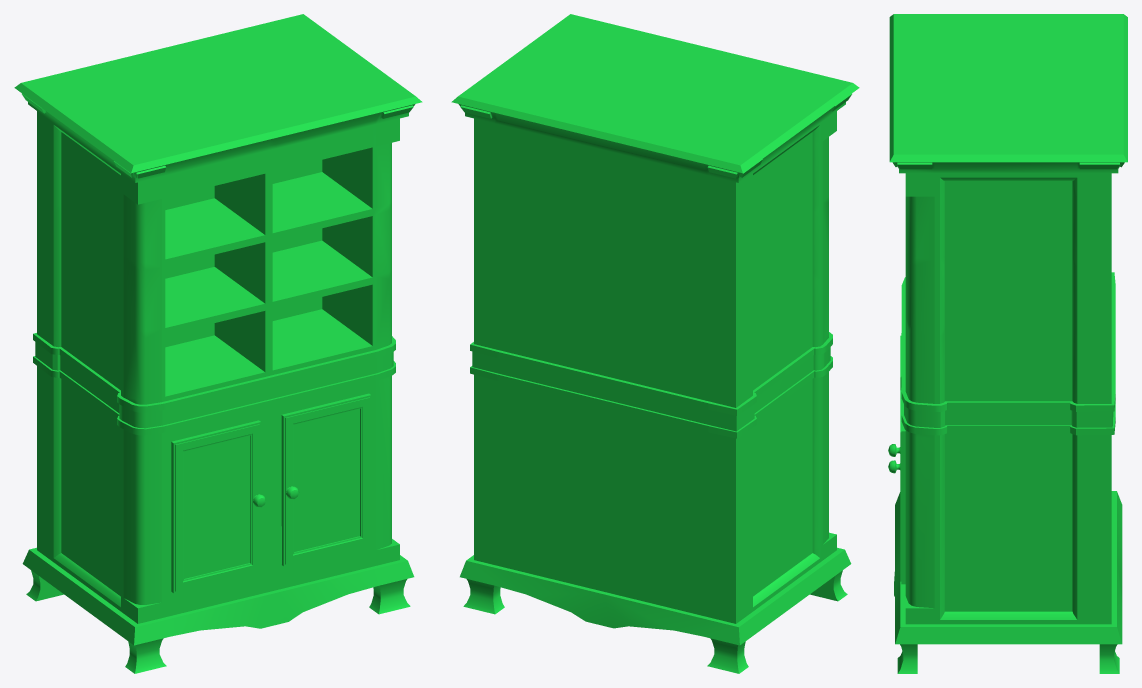
The model's file is Bookshelf-01.fbx.
3 renders of one model, left to right at view 1: azimuth 30°, elevation 25°; view 2: azimuth 150°, elevation 25°; view 3: azimuth 270°, elevation 25°, orthographic.
Visible parts, largest first — view 1: Bookshelf-01_low.001, Bookshelf-Door_low.001; view 2: Bookshelf-01_low.001; view 3: Bookshelf-01_low.001, Bookshelf-Door_low.001.
Boxes of the visible parts, left/top/right/bottom form: Bookshelf-01_low.001: left=14, top=14, right=422, bottom=673; Bookshelf-Door_low.001: left=171, top=393, right=371, bottom=593; Bookshelf-01_low.001: left=451, top=14, right=859, bottom=673; Bookshelf-01_low.001: left=889, top=14, right=1127, bottom=673; Bookshelf-Door_low.001: left=888, top=333, right=905, bottom=584.
Bounding box in the file's own units: 133 × 93.21 × 223.
